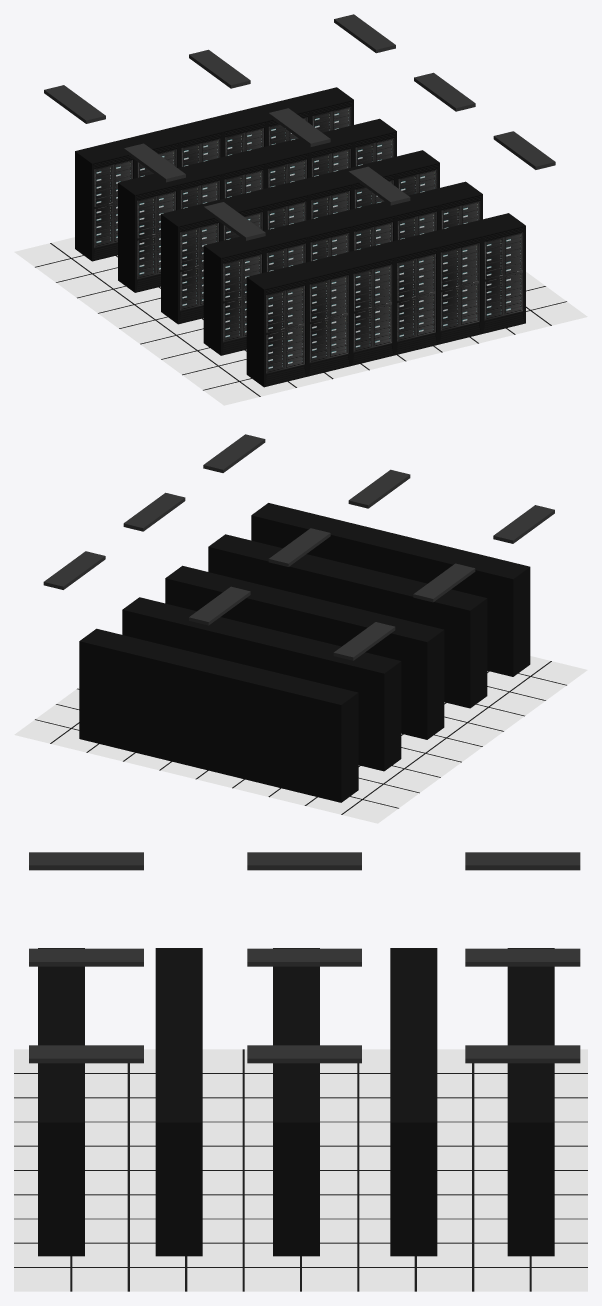
The model's file is DataCenter.fbx.
3 views of the same model, one above another, from view 1: azimuth 30°, elevation 25°; view 2: azimuth 150°, elevation 25°; view 3: azimuth 270°, elevation 25° (orthographic). The views are drawn at different scales.
Parts seen in each view (by area): view 1: Cluster, Plane.001, LampTeto.003, Plane; view 2: Cluster, Plane.001, LampTeto.003, Plane; view 3: Plane.001, Cluster, LampTeto.003, Plane.
Boxes of the visible parts, x1,y1,x2,y2 form: Cluster: [75, 87, 525, 387]; Plane.001: [14, 237, 587, 405]; LampTeto.003: [44, 14, 555, 240]; Plane: [35, 243, 566, 396]; Cluster: [79, 503, 530, 802]; Plane.001: [14, 656, 587, 823]; LampTeto.003: [43, 434, 554, 660]; Plane: [35, 661, 566, 814]; Plane.001: [14, 1049, 587, 1291]; Cluster: [38, 948, 554, 1256]; LampTeto.003: [29, 852, 580, 1063]; Plane: [14, 1049, 587, 1291].
Bounding box in the file's own units: 4400 × 1820 × 4400.
8 materials, 1 textured.
